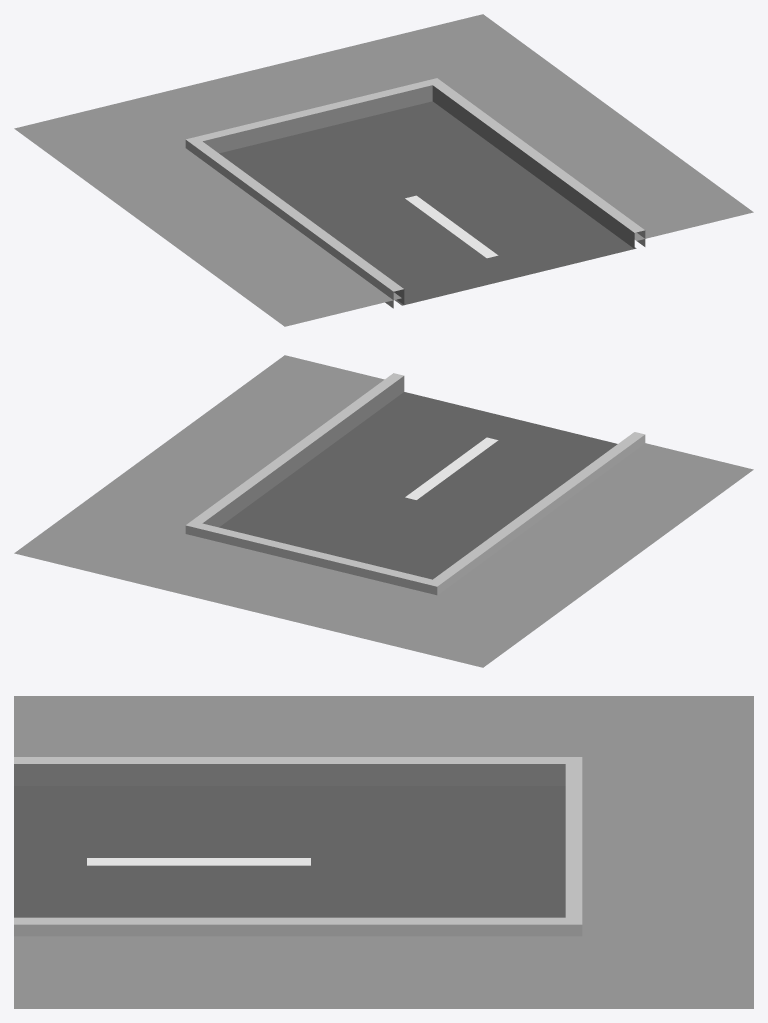
File: road_tile_1x1_012.fbx
3 renders of one model, top to bottom at view 1: azimuth 30°, elevation 25°; view 2: azimuth 150°, elevation 25°; view 3: azimuth 270°, elevation 25°, orthographic. The views are drawn at different scales.
Visible parts, largest first — view 1: road_tile_1x1_012; view 2: road_tile_1x1_012; view 3: road_tile_1x1_012.
Part boxes in pixels (box(x1,y1,x2,y2)): road_tile_1x1_012: box(14, 14, 753, 326); road_tile_1x1_012: box(14, 355, 753, 667); road_tile_1x1_012: box(14, 696, 753, 1008).
Bounding box in the file's own units: 800 × 27.78 × 800.
